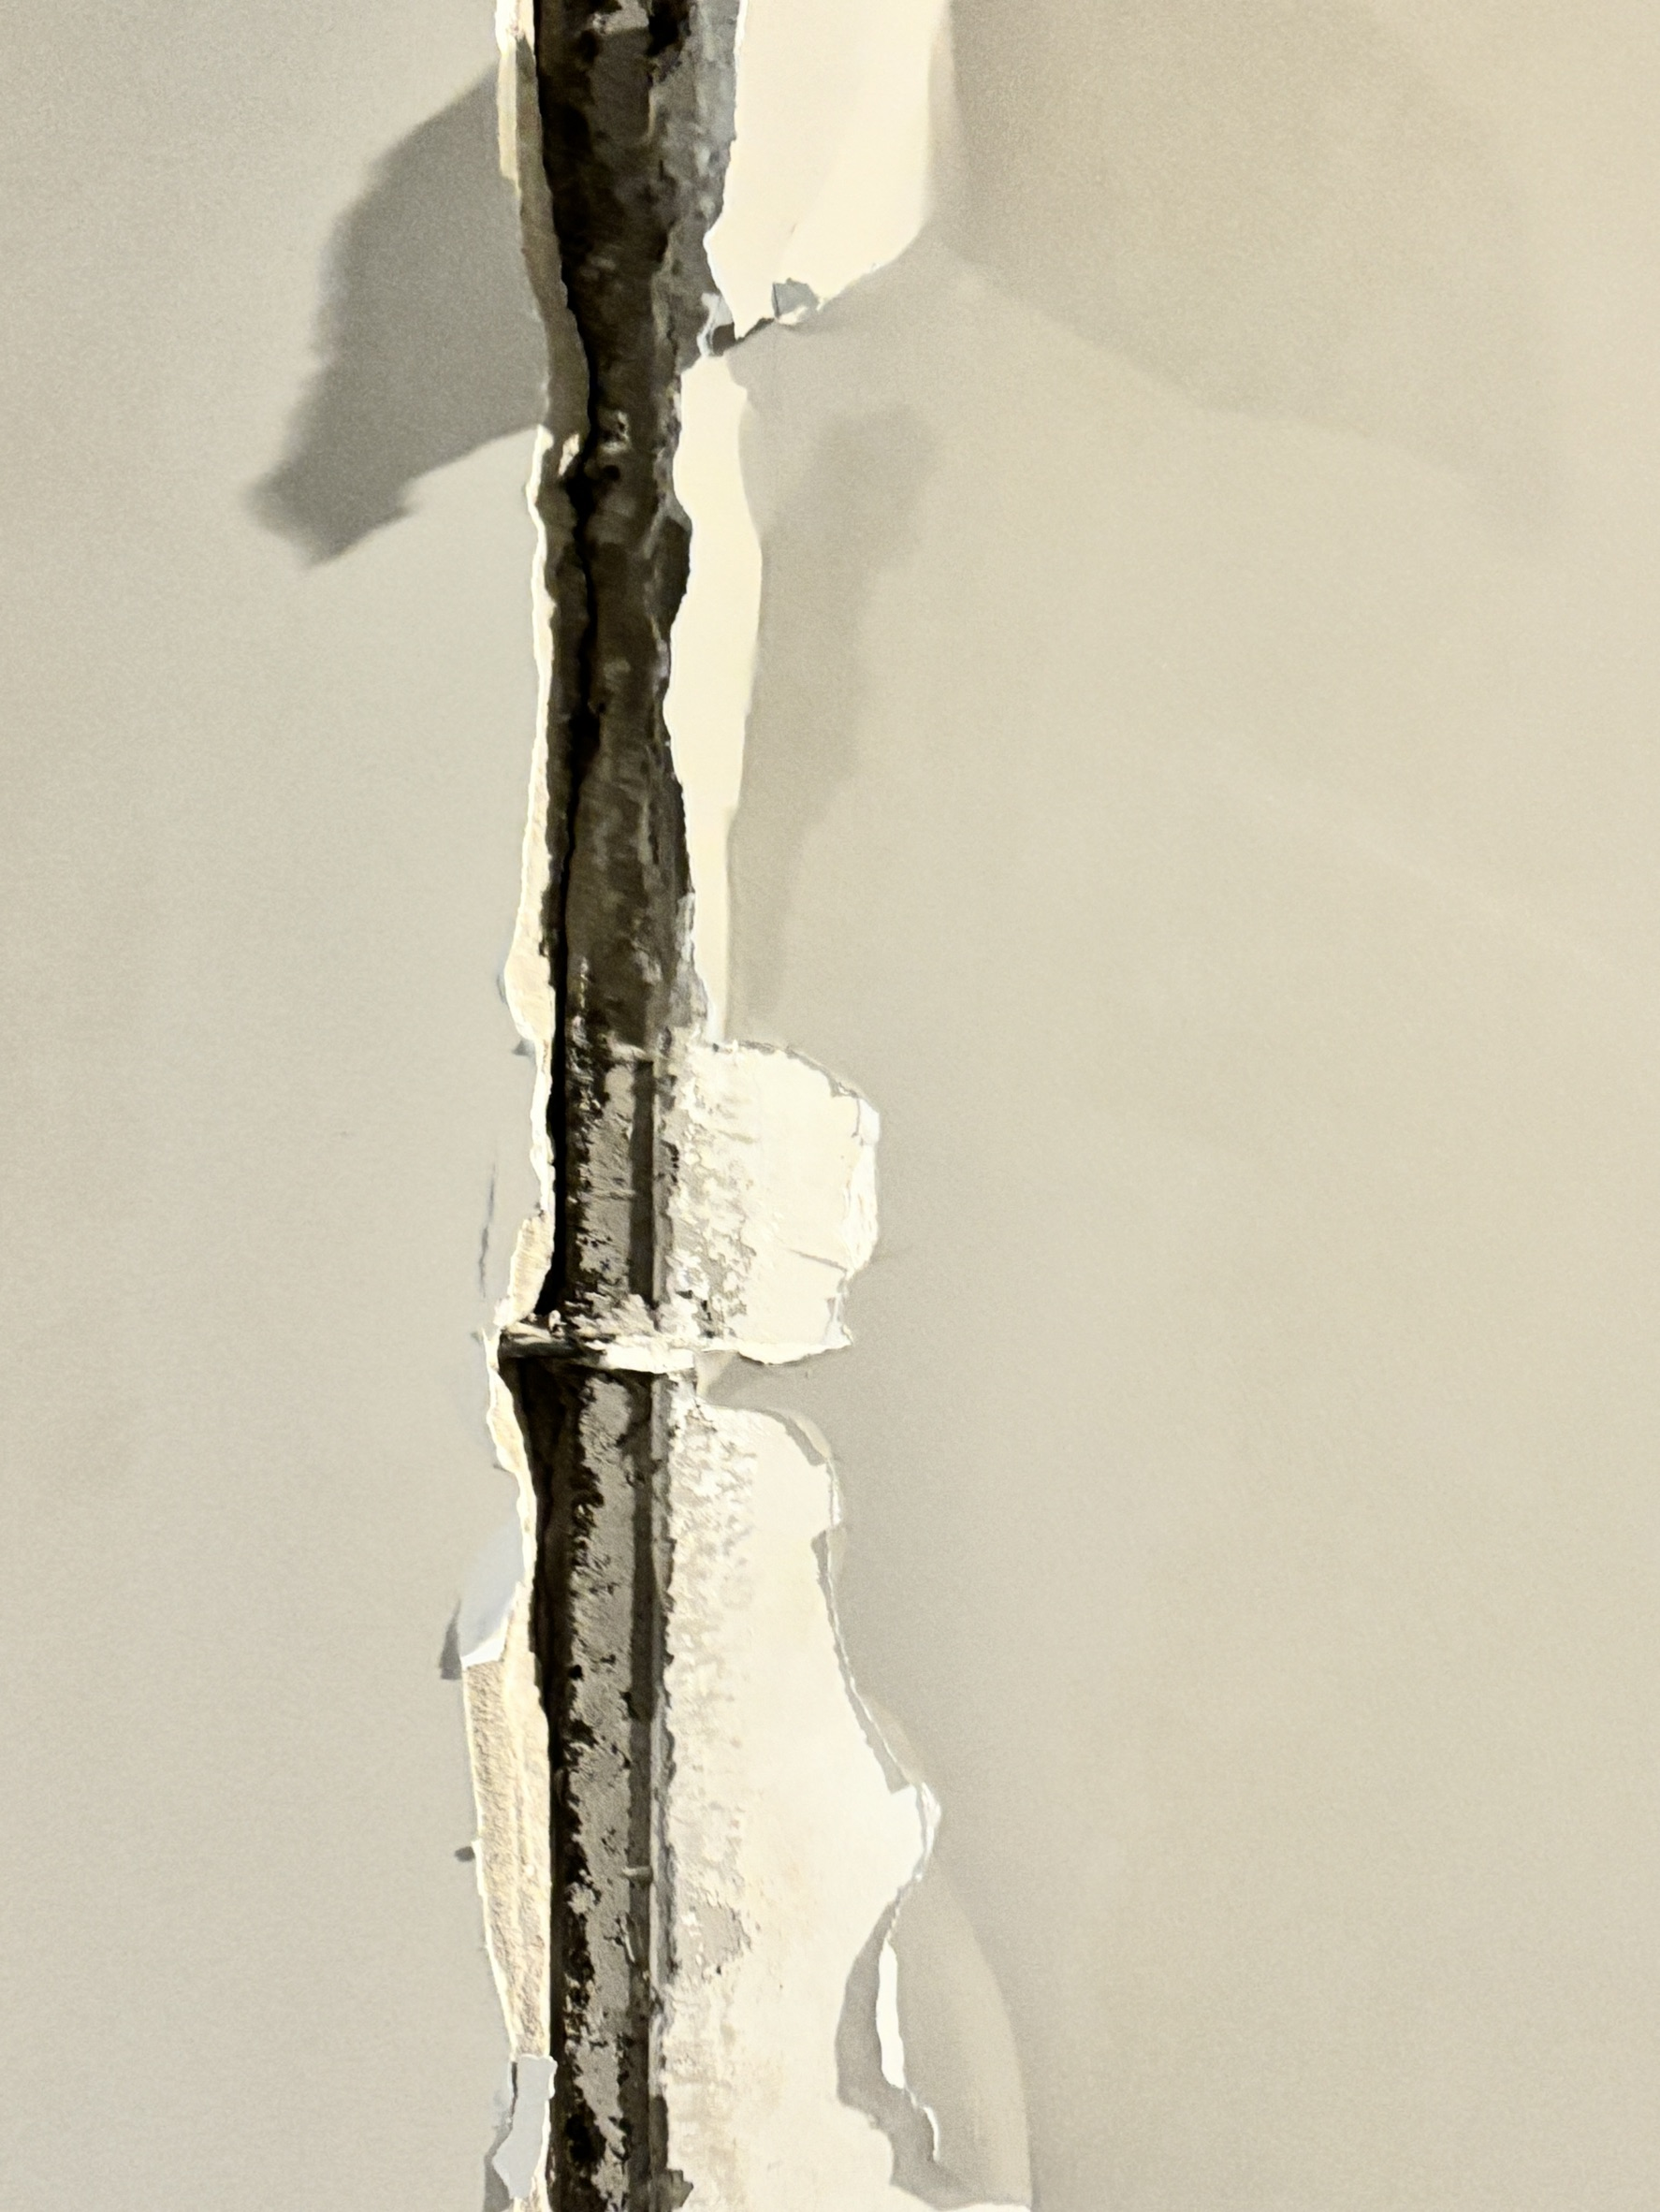Medium: (302, 181, 938, 2202)
